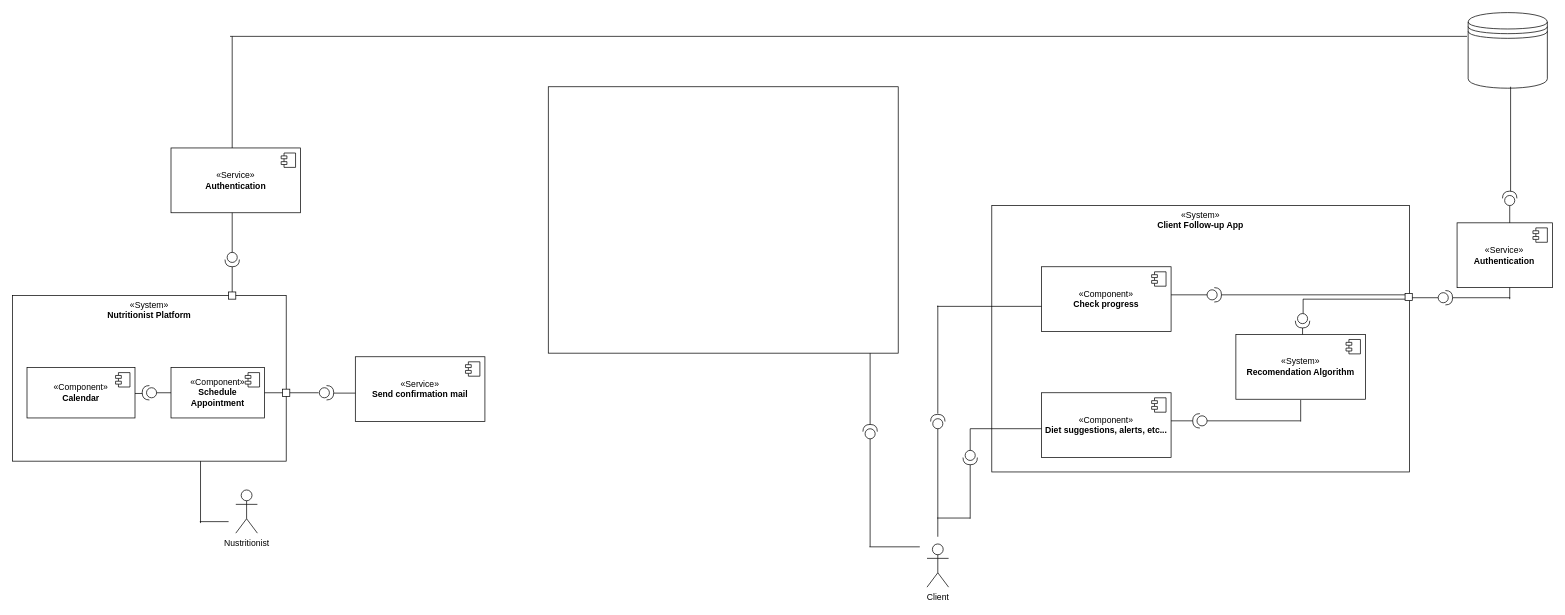
The diagram is 1565 pixels wide and 615 high, and some of its shapes have lost their labels. Each missing label, with the centre of its shape:
"Users info DB" goes at pixel 1507 50.
"«System» Data collection" goes at pixel 723 219.
